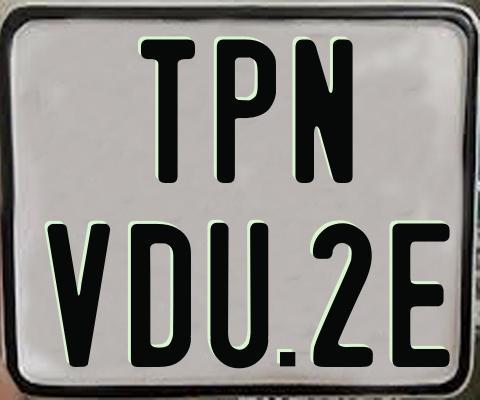2: (310, 222, 375, 371)
D: (129, 222, 191, 371)
E: (392, 223, 455, 368)
N: (294, 39, 357, 187)
P: (216, 38, 278, 184)
T: (141, 36, 197, 180)
U: (210, 220, 273, 369)
V: (45, 224, 111, 370)
